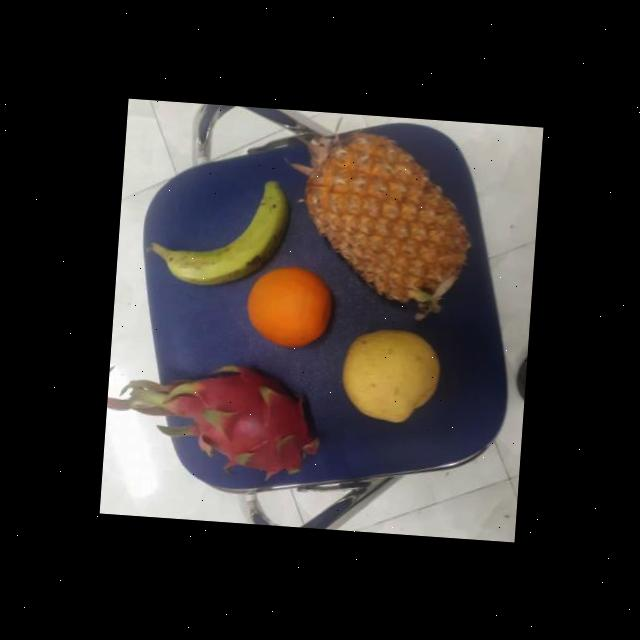banana: (154, 178, 290, 288)
guava: (338, 321, 441, 426)
orange: (242, 260, 336, 352)
pineapple: (296, 122, 481, 310)
pitaya: (162, 356, 322, 492)
